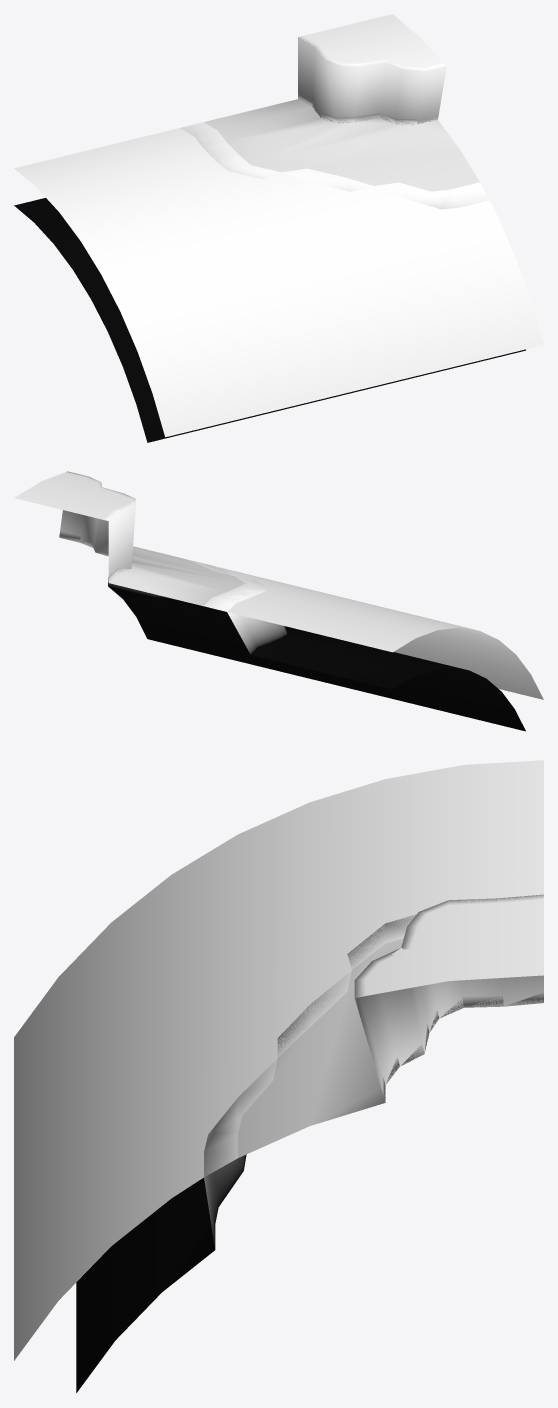
The model's file is grd_Msw_c_1.dae.
3 renders of one model, top to bottom at view 1: azimuth 30°, elevation 25°; view 2: azimuth 150°, elevation 25°; view 3: azimuth 270°, elevation 25°, orthographic. The views are drawn at different scales.
Visible parts, largest first — view 1: ocean_4_0, beach_0_0, wave_5_0, beach_1_0, cliff_2_0, grass_3_0; view 2: beach_1_0, ocean_4_0, beach_0_0, cliff_2_0, grass_3_0, wave_5_0; view 3: ocean_4_0, beach_1_0, wave_5_0, beach_0_0, grass_3_0, cliff_2_0.
Part boxes in pixels (x1,y1,x2,y2): ocean_4_0: (14, 128, 543, 437); beach_0_0: (203, 93, 479, 191); wave_5_0: (62, 128, 530, 312); beach_1_0: (14, 122, 525, 442); cliff_2_0: (298, 35, 446, 124); grass_3_0: (299, 14, 442, 67); beach_1_0: (108, 553, 525, 731); ocean_4_0: (180, 557, 543, 699); beach_0_0: (59, 531, 245, 605); cliff_2_0: (60, 471, 135, 580); grass_3_0: (14, 472, 134, 520); wave_5_0: (187, 559, 363, 639); ocean_4_0: (14, 760, 543, 1360); beach_1_0: (76, 914, 416, 1392); wave_5_0: (58, 801, 543, 1299); beach_0_0: (238, 938, 543, 1157); grass_3_0: (357, 895, 543, 997); cliff_2_0: (354, 894, 543, 1102).
Size of the model in its own units: 512 by 308 by 354.
6 materials, 1 textured.
